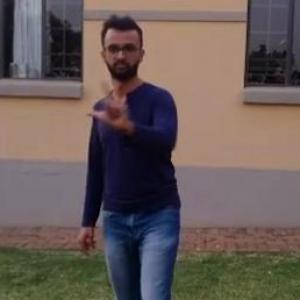land_hand: (86, 74, 142, 138)
